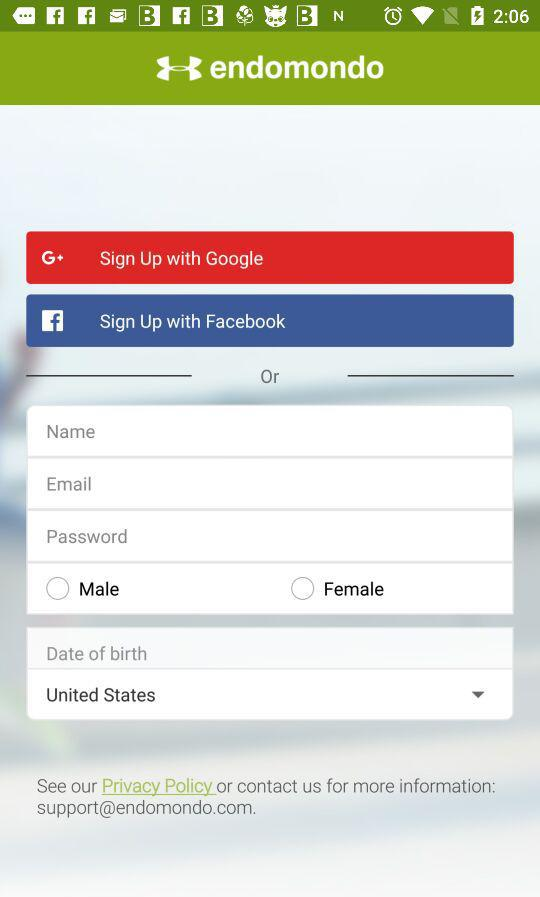CheckedTextView: (292, 577, 385, 601), (47, 577, 120, 601)
EditText: (27, 509, 512, 565), (27, 405, 512, 460), (27, 456, 512, 509), (27, 627, 513, 669)
Image: (156, 55, 385, 83)
Text: (38, 777, 496, 819), (47, 687, 156, 702), (48, 645, 148, 661), (48, 529, 128, 544), (326, 582, 385, 597), (48, 425, 97, 440), (48, 477, 92, 492), (81, 581, 120, 597), (262, 370, 280, 384)
TextButton: (27, 231, 514, 285), (27, 294, 514, 348), (27, 669, 513, 721)
UpperTaskBar: (1, 1, 540, 33)
